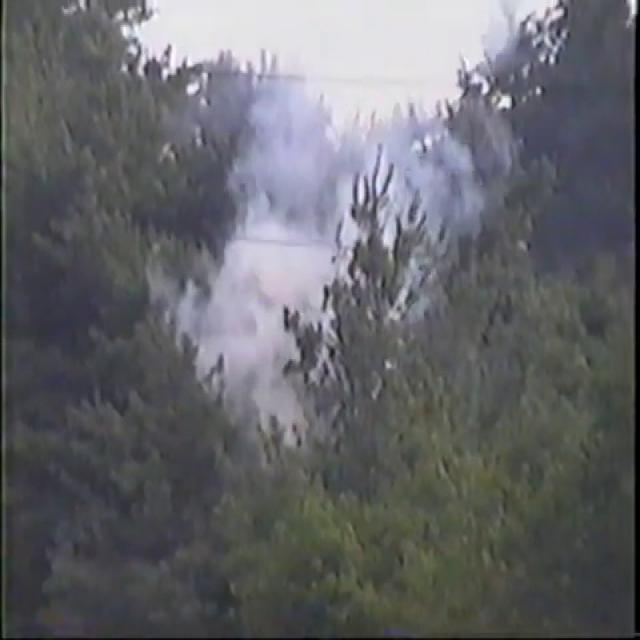Smoke: (179, 2, 477, 444)
